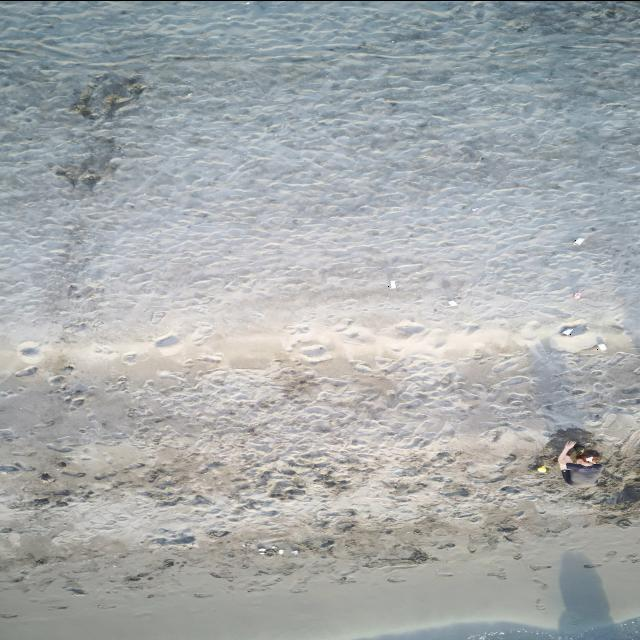Garbage: (256, 544, 283, 555), (560, 324, 587, 335), (14, 367, 36, 375), (560, 327, 572, 335), (573, 236, 584, 244), (536, 464, 546, 472), (596, 343, 606, 350), (387, 280, 395, 287), (572, 291, 580, 298), (447, 300, 455, 306), (258, 547, 265, 552), (292, 549, 297, 555), (278, 548, 283, 553)
